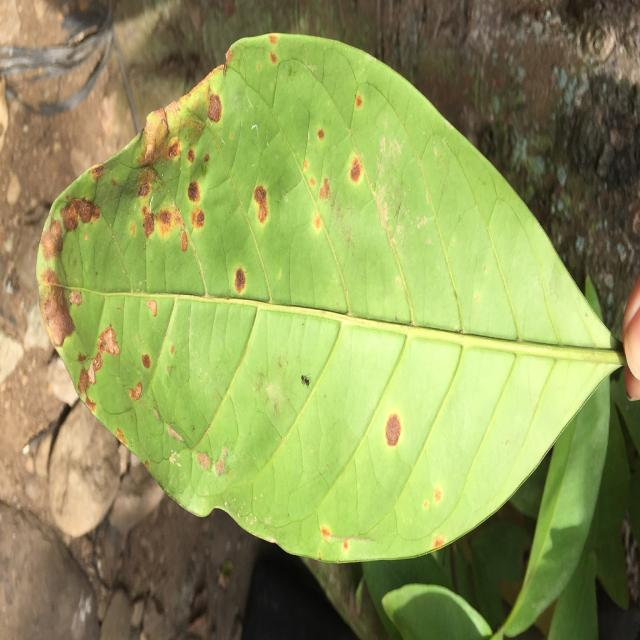Enfermedad-Mancha-de-hierro: (37, 34, 624, 566)
